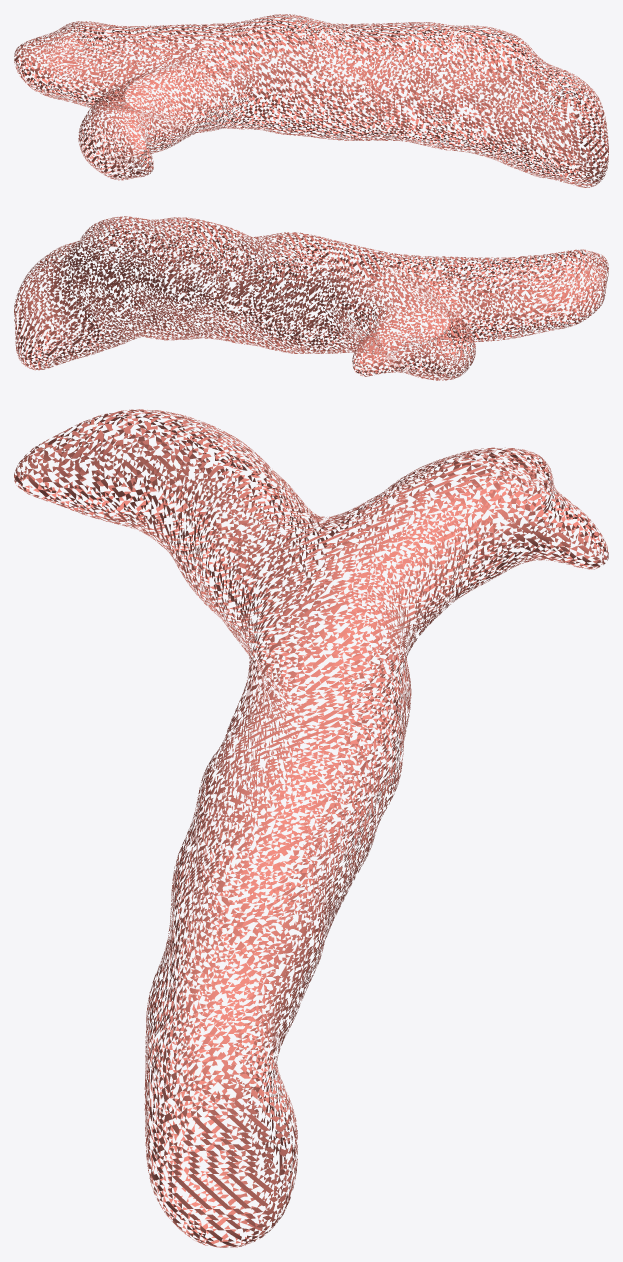
Rendered from diseased.glb.
3 views of the same model, one above another, from view 1: azimuth 30°, elevation 25°; view 2: azimuth 150°, elevation 25°; view 3: azimuth 270°, elevation 25° (orthographic). The views are drawn at different scales.
Size of the model in its own units: 130 by 49.98 by 68.45.
